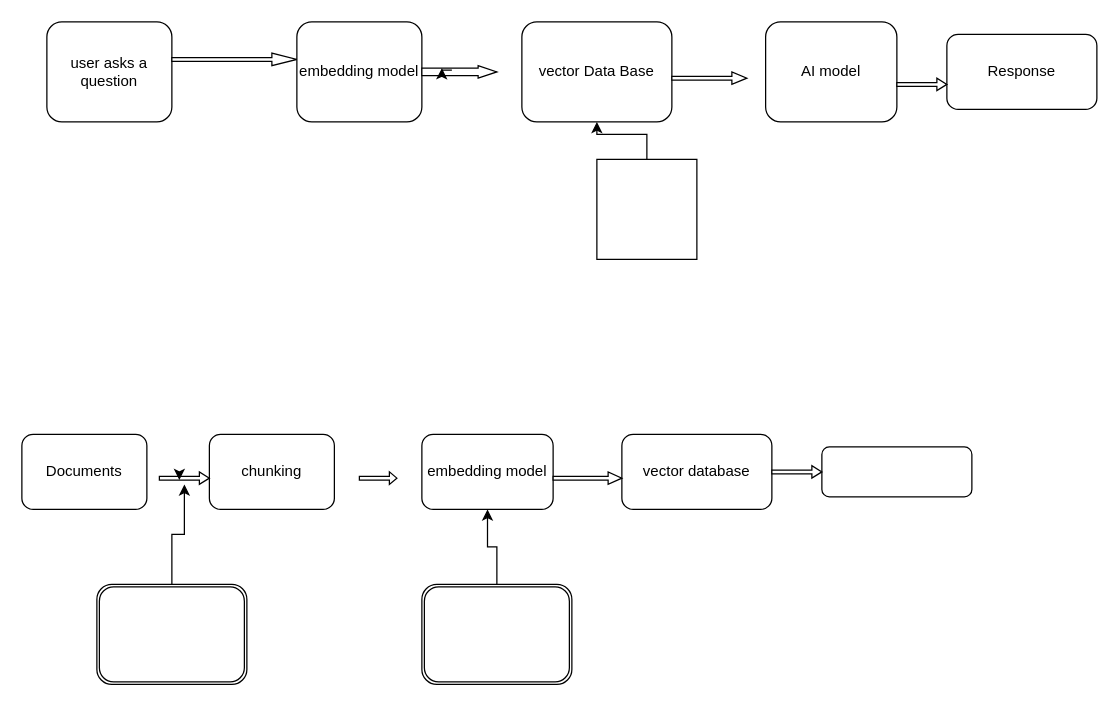
This 1119x706 diagram has some shape labels left out. The centre of each missing label's shape, as x and y in pixels:
cross tenant data leakage: point 646,208
embedding model supply chain attack: point 496,633
index ready for retrival: point 896,471
knowledge base poisoning,attacker injects false info: point 171,633
